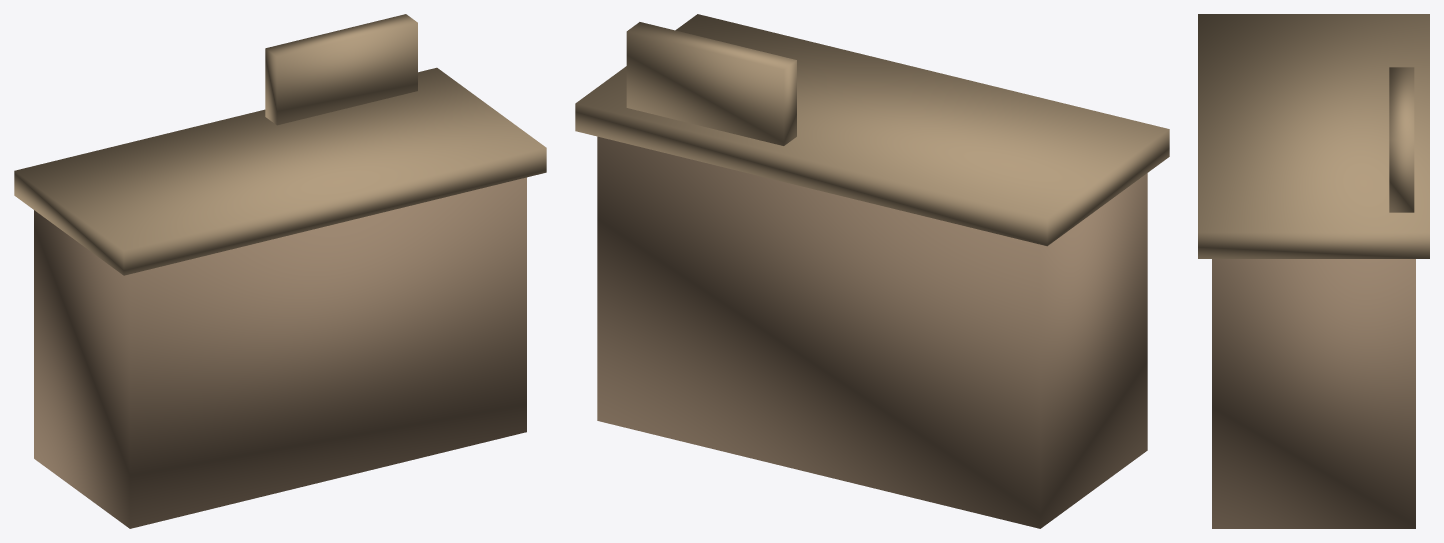
The model's file is clerk_counter__tall.glb.
3 views of the same model, side by side, from view 1: azimuth 30°, elevation 25°; view 2: azimuth 150°, elevation 25°; view 3: azimuth 270°, elevation 25° (orthographic). The views are drawn at different scales.
Visible parts, largest first — view 1: world; view 2: world; view 3: world.
Boxes of the visible parts, x1,y1,x2,y2 form: world: (14,14,546,528); world: (575,14,1169,528); world: (1198,14,1429,528).
Size of the model in its own units: 1.65 by 1.32 by 0.74.
